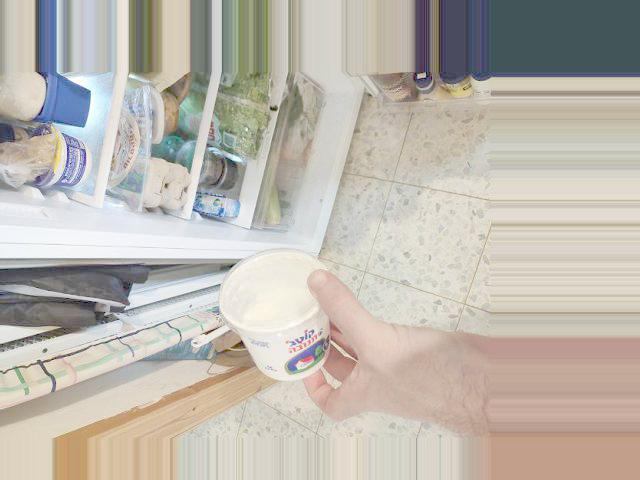cotage: (228, 252, 334, 380)
